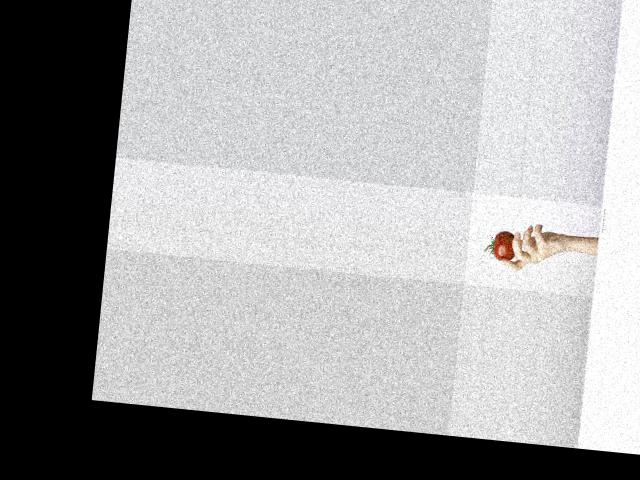tomato: (483, 229, 516, 261)
